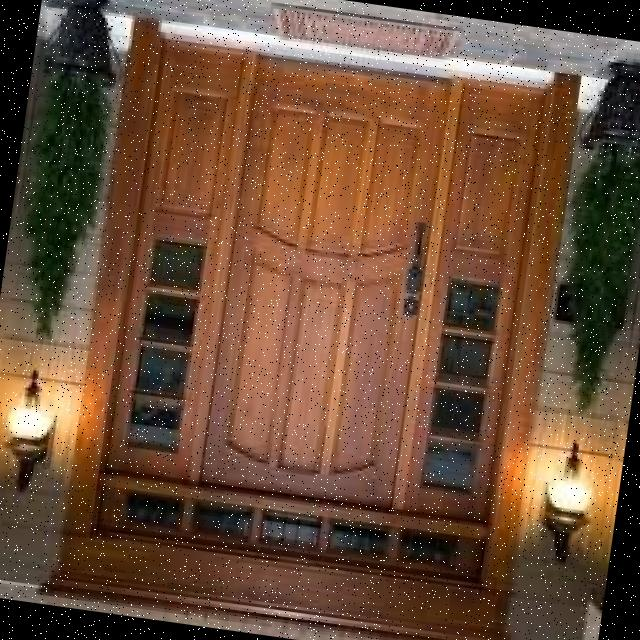Door: (188, 50, 460, 519)
